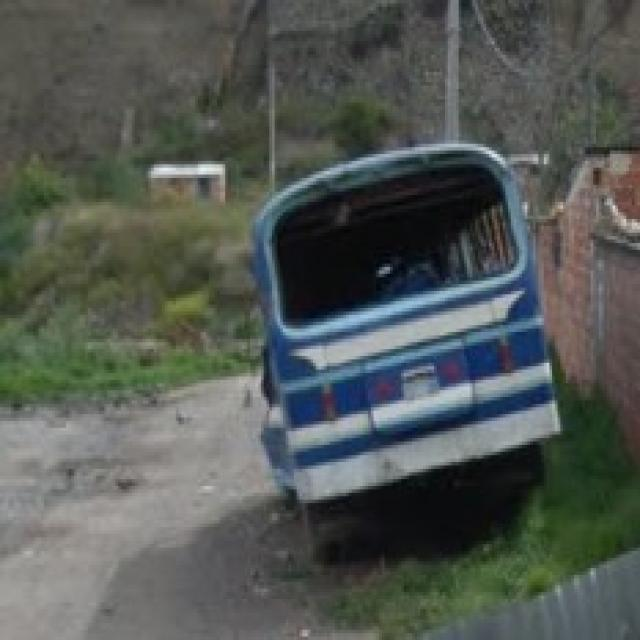cars: (257, 151, 566, 518)
